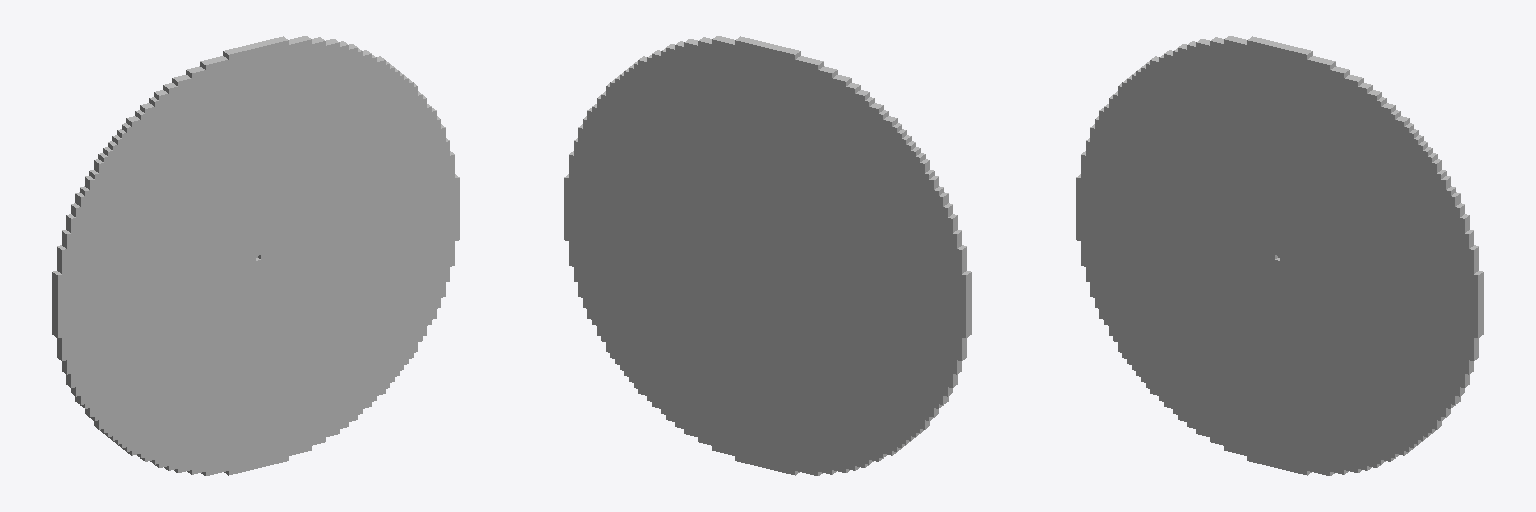
File: field_2.obj
3 views of the same model, side by side, from view 1: azimuth 30°, elevation 25°; view 2: azimuth 150°, elevation 25°; view 3: azimuth 330°, elevation 25° (orthographic).
Parts seen in each view (by area): view 1: Figure 1; view 2: Figure 1; view 3: Figure 1.
Boxes of the visible parts, <box> form: Figure 1: <box>52,36,459,475</box>; Figure 1: <box>564,36,971,475</box>; Figure 1: <box>1076,36,1483,475</box>.
Size of the model in its own units: 87 by 87 by 2.